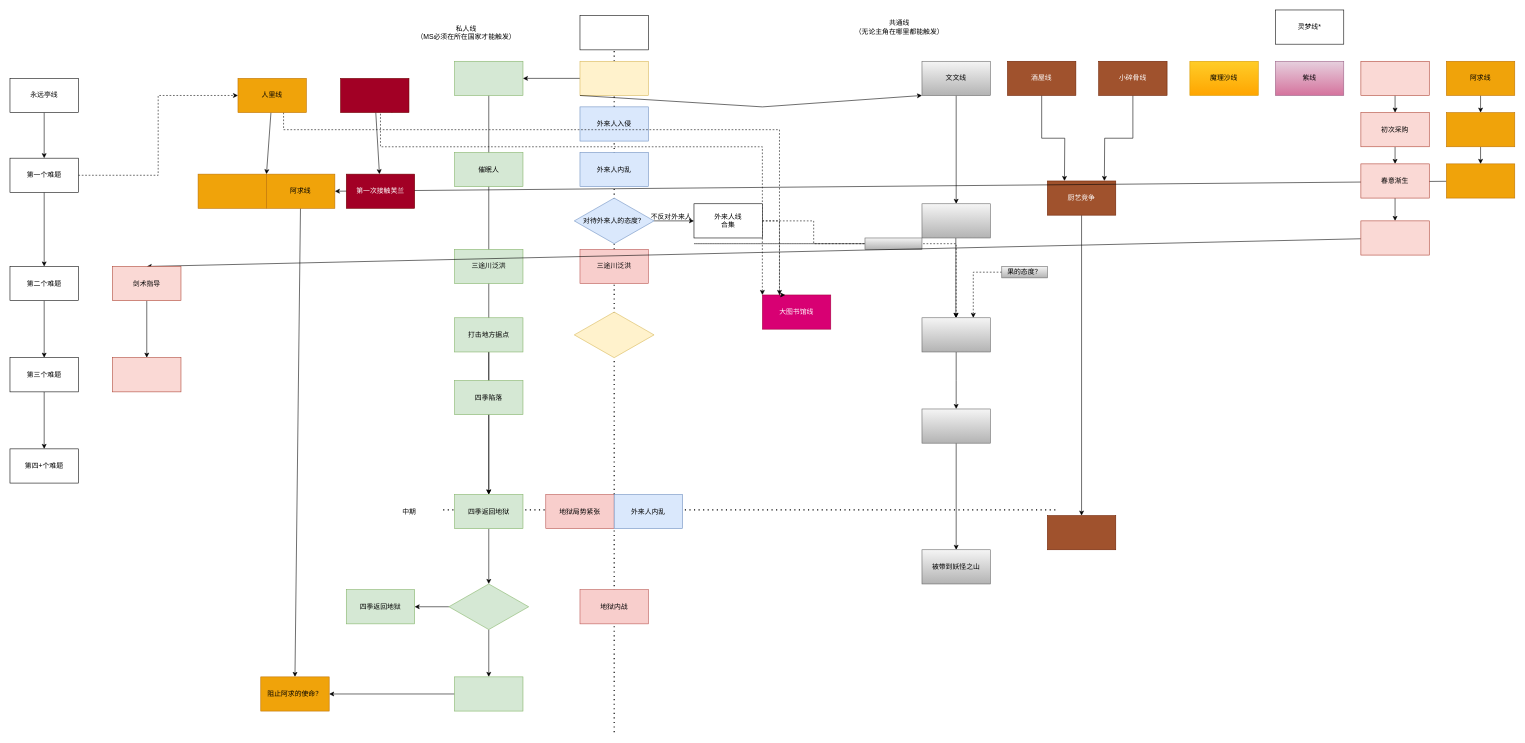
This 1525x743 diagram has some shape labels left out. Each missing label, with the centre of its shape:
"MS的善恶？" belongs at point 488,606.
"uuz的委托" belongs at point 1394,237.
"主线" belongs at point 613,32.
"了解阿求过去" belongs at point 1480,180.
"取得恋慕" belongs at point 1480,129.
"唤醒西行妖" belongs at point 146,374.
"四季的回归" belongs at point 488,693.
"地方势力异常" belongs at point 613,78.
"地方势力的邀请" belongs at point 614,335.
"外来人的帮助？" belongs at point 893,243.
"寺子屋线" belongs at point 232,191.
"恶意采访" belongs at point 955,220.
"文陷落" belongs at point 955,425.
"是非曲直线" belongs at point 488,78.
"白玉楼线" belongs at point 1394,78.
"红魔馆线" belongs at point 374,95.
"输家的下场" belongs at point 955,334.
"餐厅线" belongs at point 1081,532.
